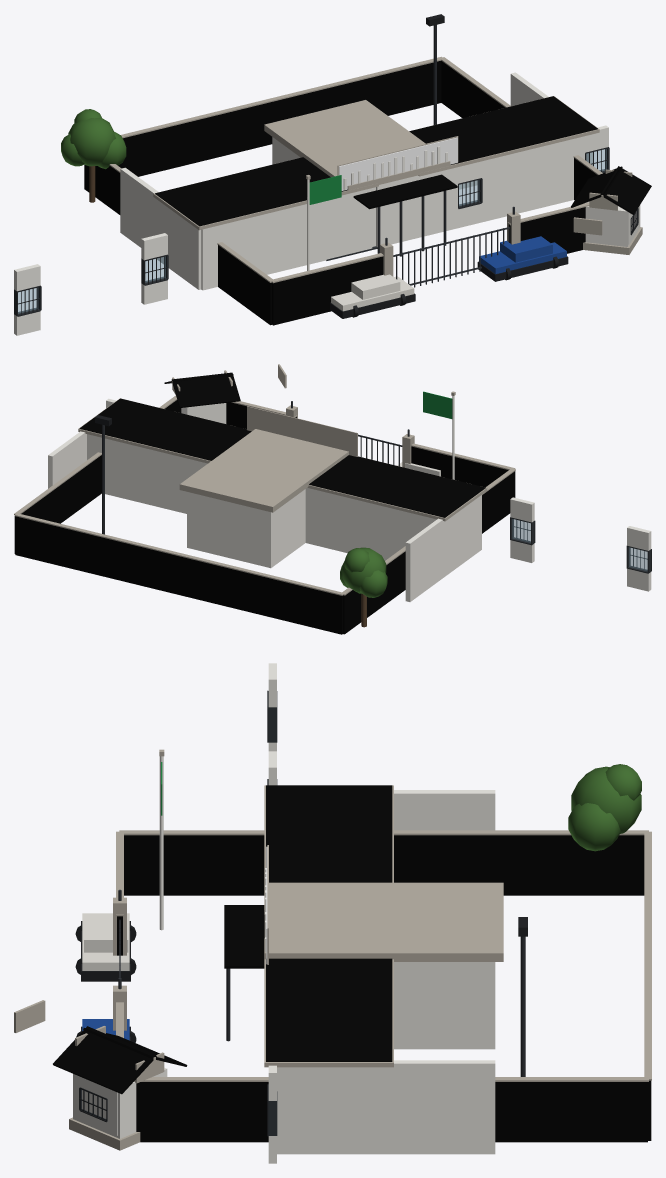
File: police.glb
The picture shows the model from 3 angles, top to bottom: view 1: azimuth 30°, elevation 25°; view 2: azimuth 150°, elevation 25°; view 3: azimuth 270°, elevation 25°; orthographic projection. The views are drawn at different scales.
Visible parts, largest first — view 1: object 120, object 5, object 89, object 39, object 83, object 47, object 37, object 123, object 121, object 122, object 98, object 90 (+26 smaller); view 2: object 120, object 89, object 88, object 36, object 39, object 83, object 80, object 37, object 121, object 122, object 99, object 123 (+16 smaller); view 3: object 121, object 82, object 89, object 122, object 83, object 39, object 88, object 37, object 180, object 93, object 203, object 126 (+12 smaller).
Boxes of the visible parts, bbox=[...] form: object 120: bbox=[118, 61, 441, 176]; object 5: bbox=[201, 188, 372, 290]; object 89: bbox=[264, 100, 450, 190]; object 39: bbox=[155, 157, 347, 226]; object 83: bbox=[409, 96, 597, 164]; object 47: bbox=[481, 136, 585, 222]; object 37: bbox=[120, 167, 201, 289]; object 123: bbox=[272, 256, 383, 325]; object 121: bbox=[84, 165, 271, 325]; object 122: bbox=[441, 61, 597, 200]; object 98: bbox=[339, 137, 457, 190]; object 90: bbox=[376, 175, 423, 246]; object 120: bbox=[15, 516, 342, 634]; object 89: bbox=[179, 429, 348, 512]; object 88: bbox=[187, 489, 305, 568]; object 36: bbox=[305, 488, 436, 560]; object 39: bbox=[309, 455, 485, 517]; object 83: bbox=[79, 398, 251, 460]; object 80: bbox=[87, 434, 207, 513]; object 37: bbox=[405, 495, 481, 601]; object 121: bbox=[343, 471, 515, 634]; object 122: bbox=[14, 400, 181, 553]; object 99: bbox=[247, 406, 357, 456]; object 123: bbox=[411, 446, 508, 487]; object 121: bbox=[124, 835, 644, 895]; object 82: bbox=[277, 1060, 495, 1154]; object 89: bbox=[264, 882, 503, 961]; object 122: bbox=[136, 1082, 647, 1142]; object 83: bbox=[266, 958, 392, 1061]; object 39: bbox=[266, 785, 392, 882]; object 88: bbox=[394, 962, 495, 1049]; object 37: bbox=[394, 790, 495, 830]; object 180: bbox=[53, 1026, 156, 1094]; object 93: bbox=[224, 905, 264, 968]; object 203: bbox=[571, 766, 641, 833]; object 126: bbox=[119, 830, 648, 835].
Size of what is drawn, in the model's own units: 34.93 by 7.31 by 22.95.
